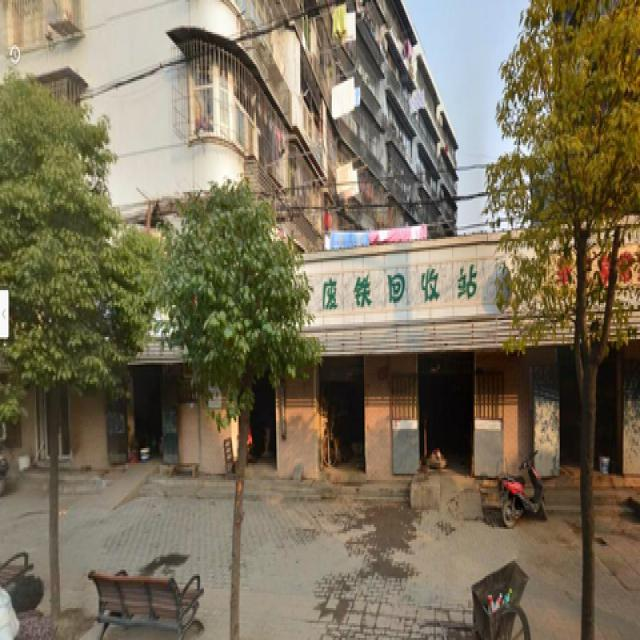cinn: (517, 15, 632, 582), (1, 85, 115, 576), (190, 207, 286, 627)
